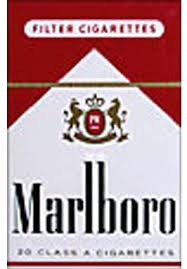marlboro: (8, 1, 181, 268)
